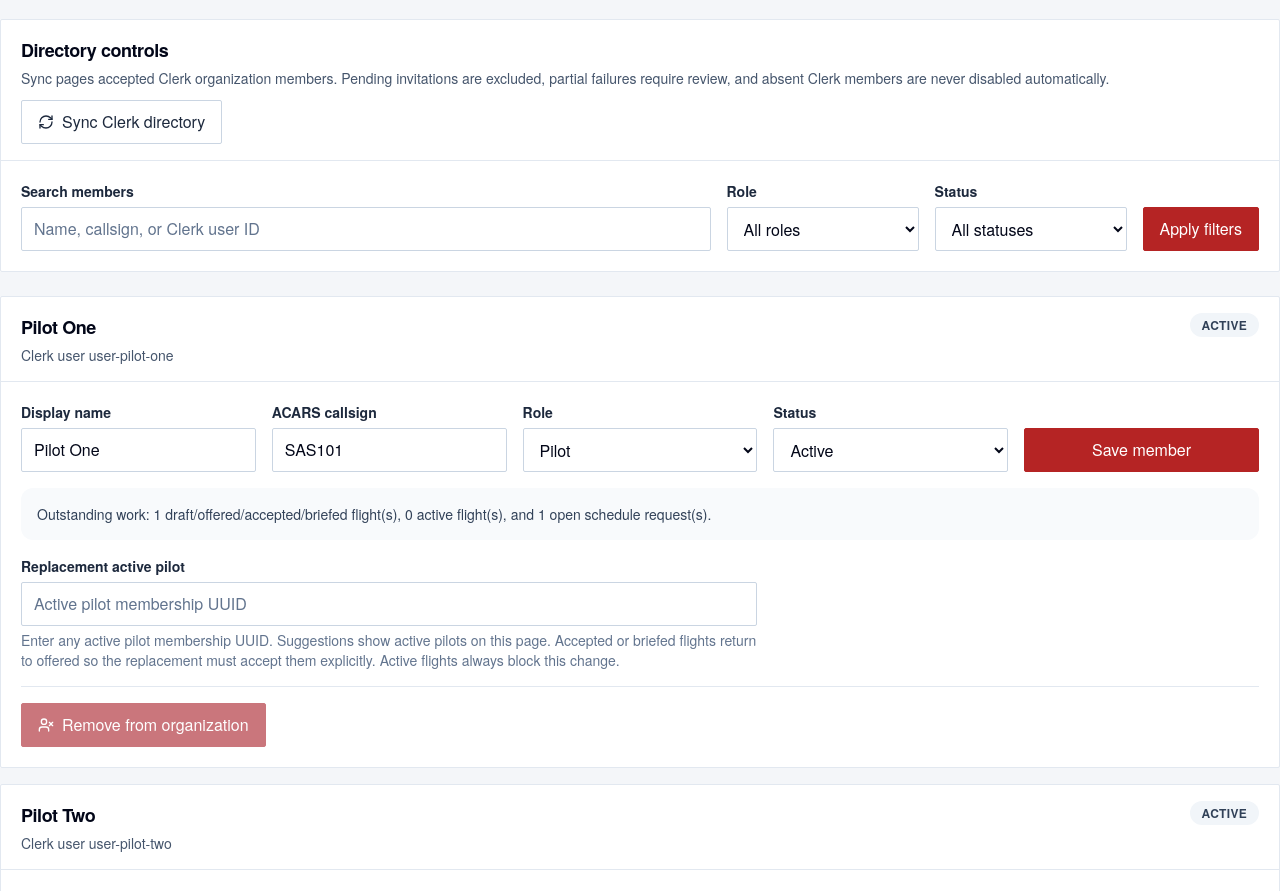
Test: admin member console › requires a replacement and submits it when a pilot becomes ineligible
(page scrolled)
Select "Dispatcher" in the 2nd dropdown labelled "Role" at [640, 450], box x1=523 y1=428 x2=757 y2=472
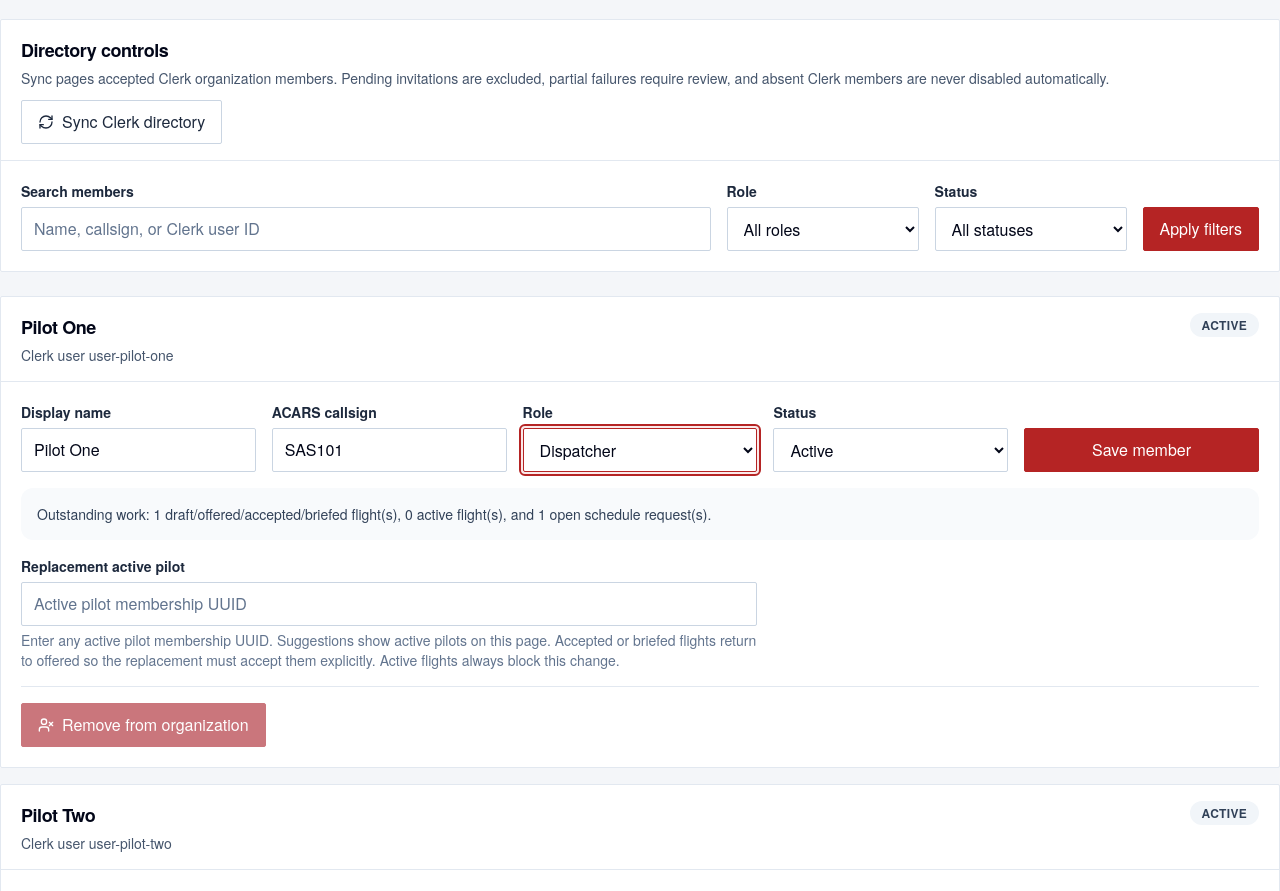
Type "26000000-0000-4000-8000-000000000022" into the field labelled "Replacement active pilot".
click(389, 604); type("26000000-0000-4000-8000-000000000022")  # box x1=21 y1=582 x2=757 y2=626
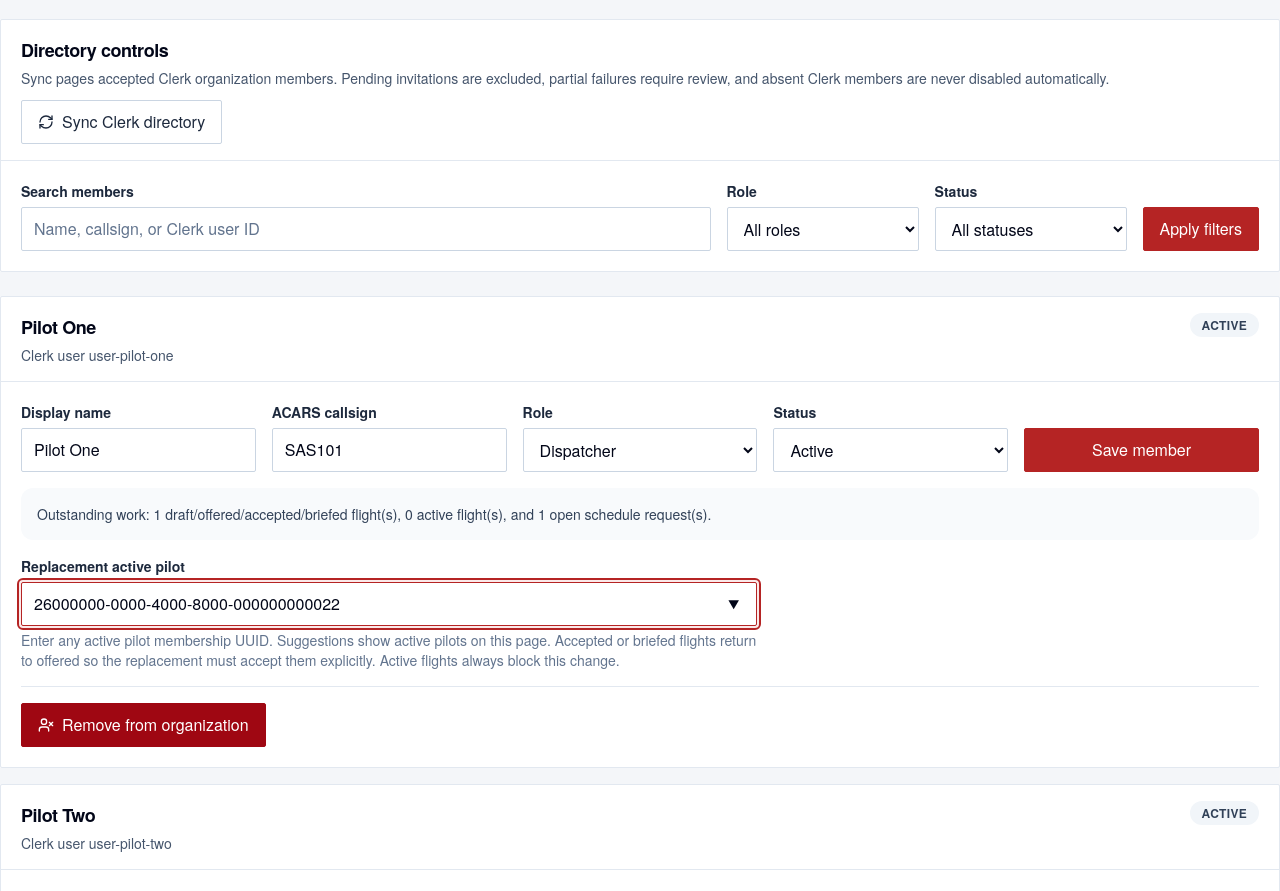
Expected: the form labelled "Role" is shown, x1=1 y1=382 x2=1279 y2=767
Click the button "Save member".
click(1142, 450)  # box x1=1024 y1=428 x2=1259 y2=472
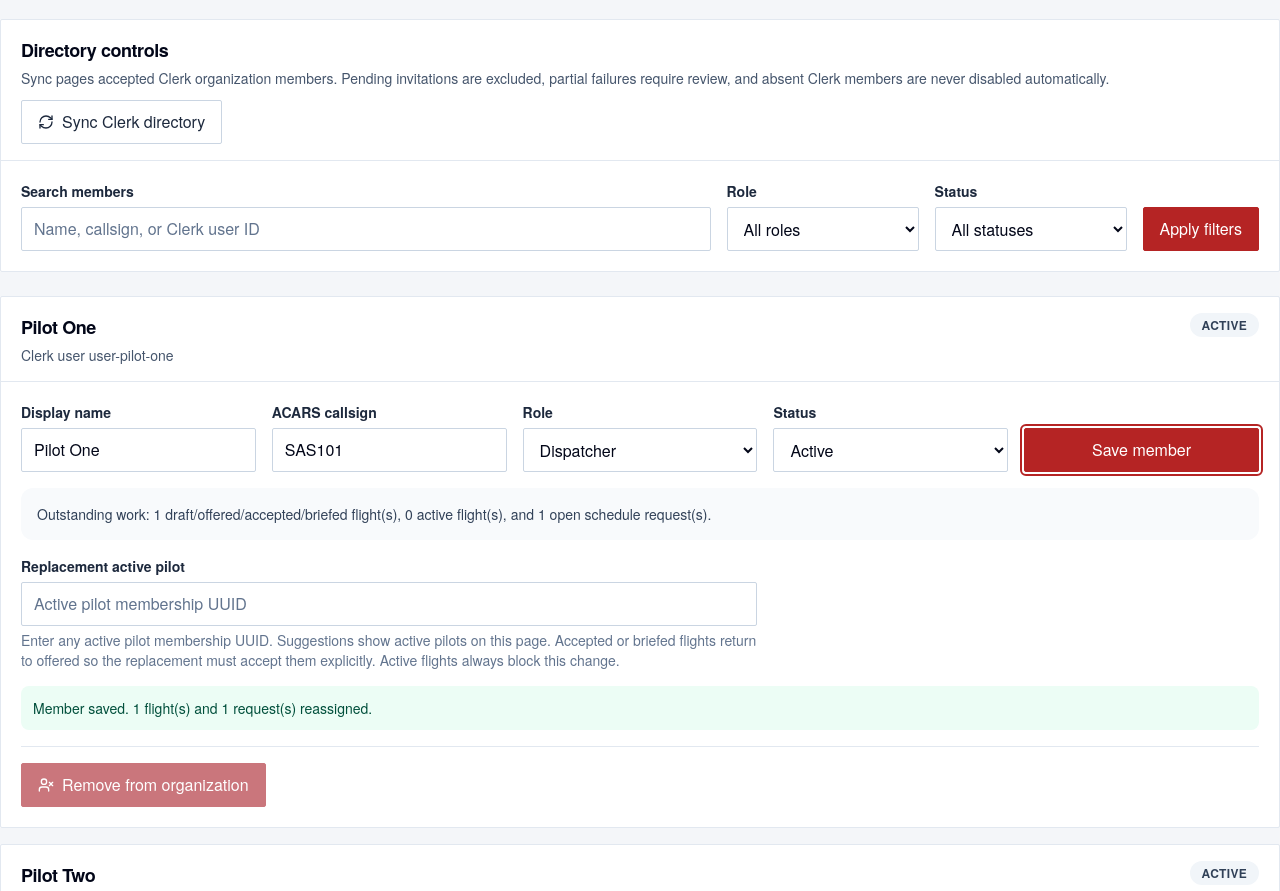
Expected: the text "Member saved. 1 flight(s) and 1 request(s) reassigned." is shown, x1=21 y1=686 x2=1259 y2=730
